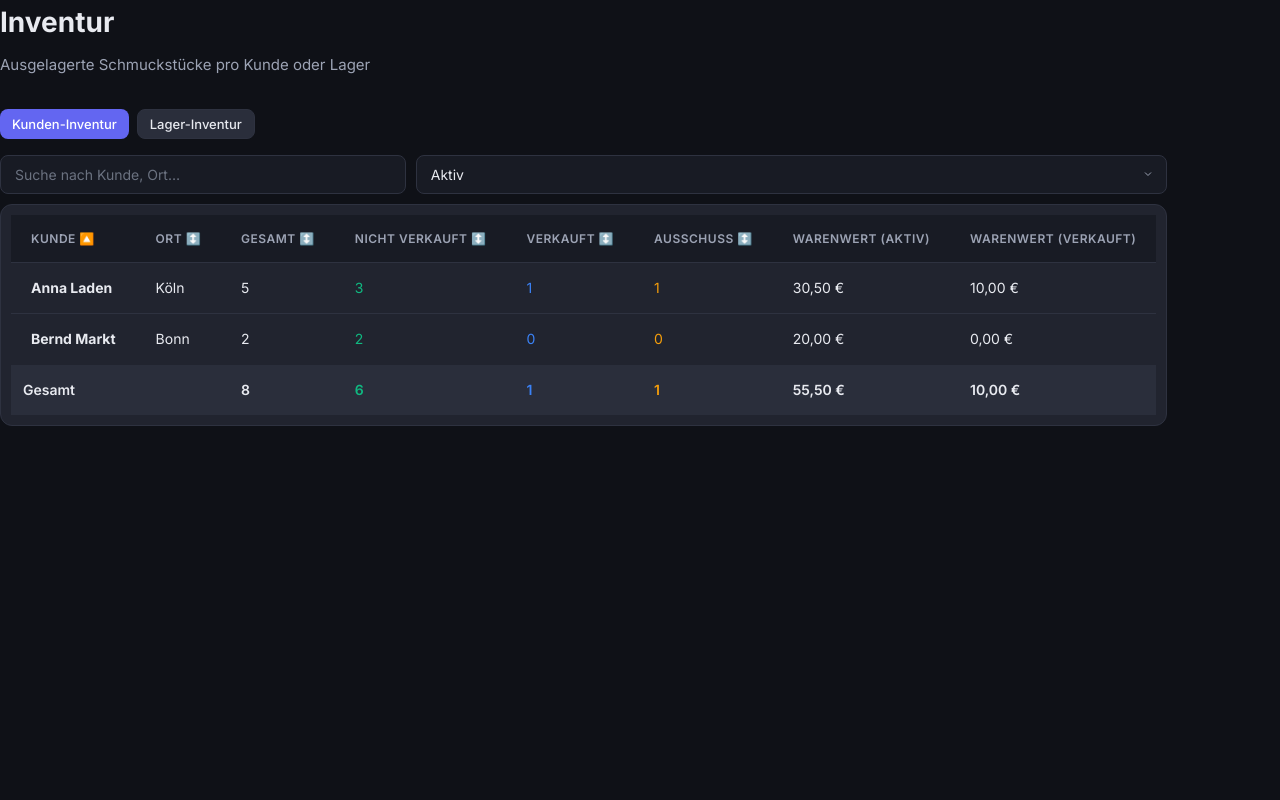
Test case: Kunden-Detail › zeigt Fehler beim Zurücklagern und schließt das Detail nicht
Click the text "Anna Laden".
click(72, 288)  # box top-left (31, 279), bottom-right (112, 296)
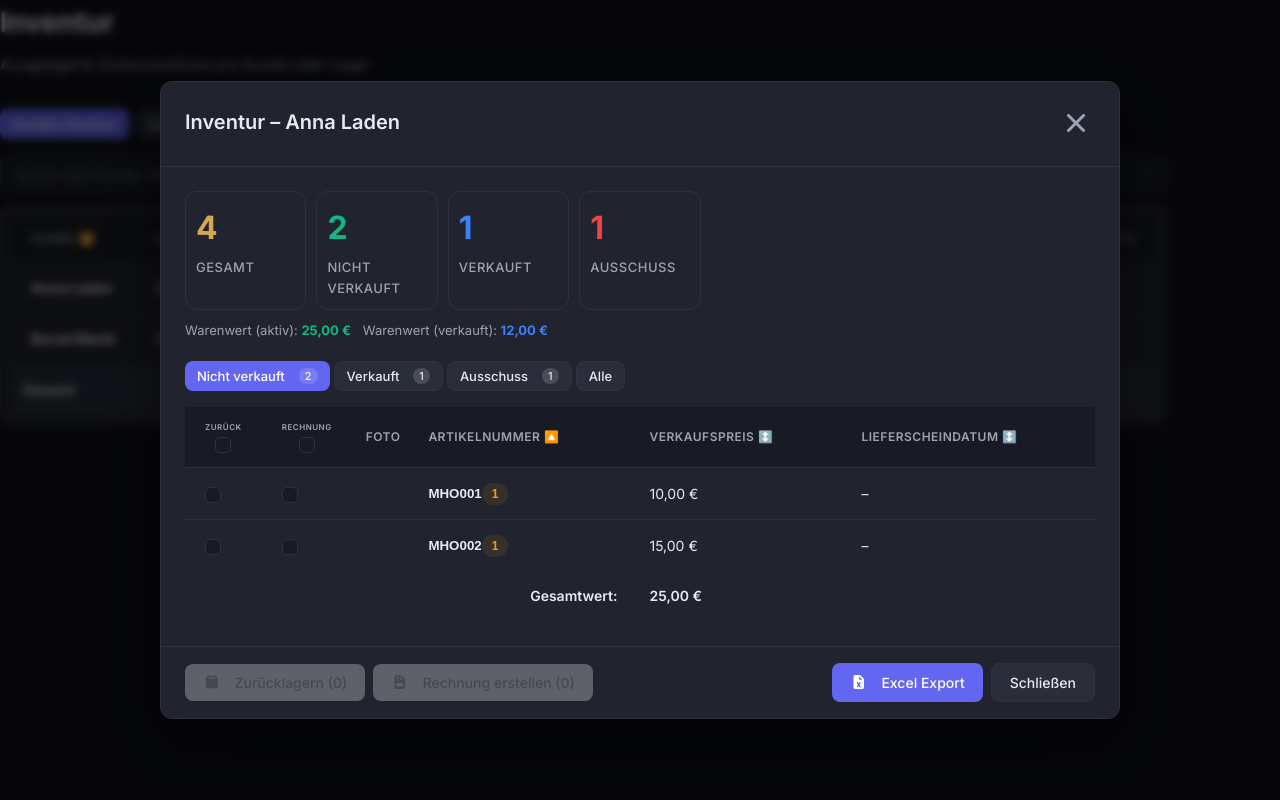
Expected: the heading "Inventur – Anna Laden" is shown, top-left (185, 106), bottom-right (400, 138)
Expected: the text "MHO001" is shown, top-left (428, 486), bottom-right (482, 501)
Click the checkbox titled "Alle auswählen".
click(223, 445)  # box top-left (215, 437), bottom-right (231, 453)
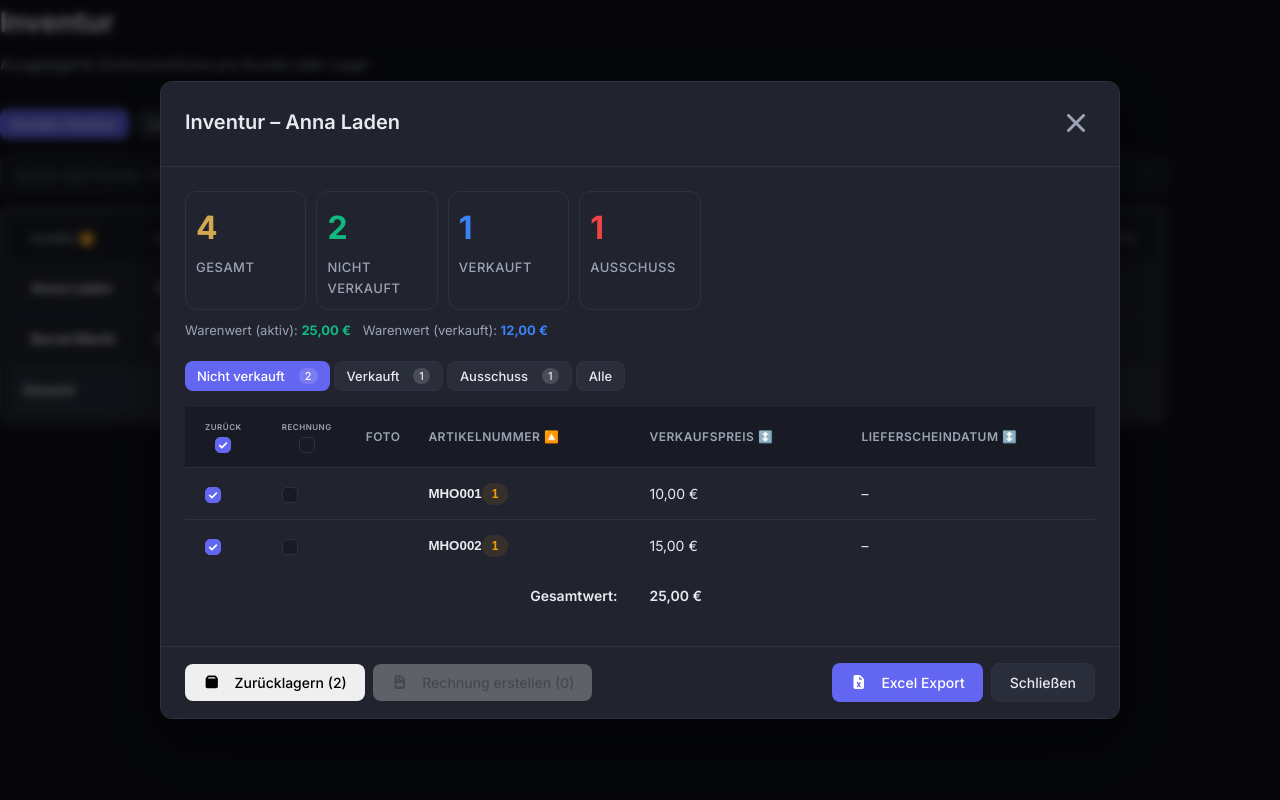
Click the button "Zurücklagern (2)".
click(275, 682)  # box top-left (185, 664), bottom-right (365, 701)
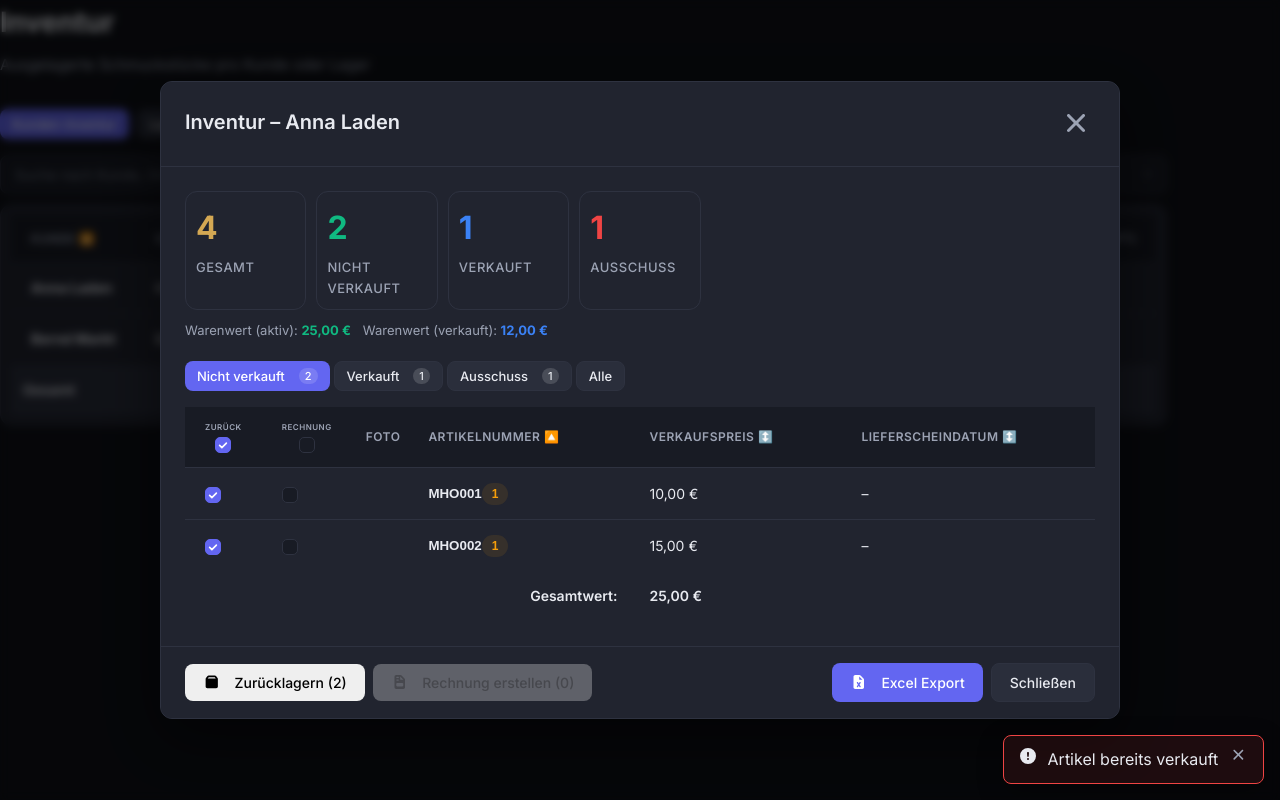
Expected: the heading "Inventur – Anna Laden" is shown, top-left (185, 106), bottom-right (400, 138)
Expected: the text "Artikel bereits verkauft" is shown, top-left (1048, 748), bottom-right (1218, 771)
